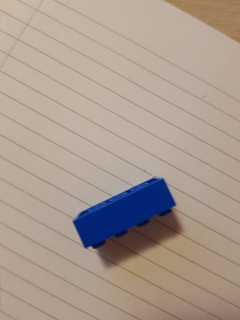2x4 blue: (71, 175, 179, 250)
